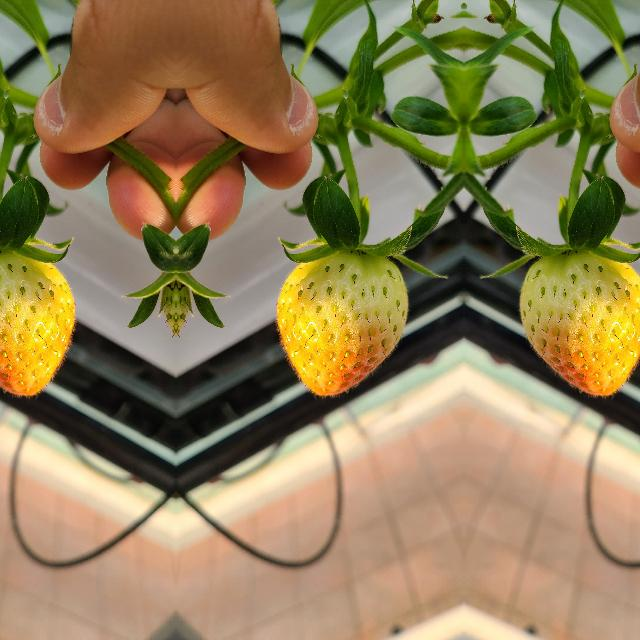Health_50: (276, 251, 406, 395), (520, 251, 640, 395), (0, 251, 74, 395)
